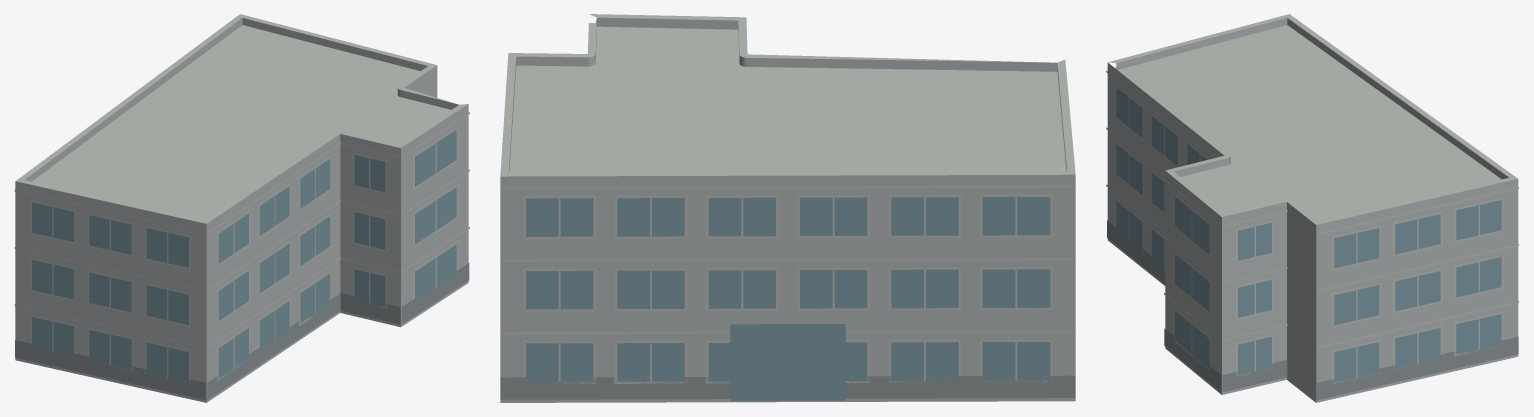
Rendered from public-b727afa5-353d-4661-aec9-f2608c0fcb34.glb.
3 renders of one model, left to right at view 1: azimuth 30°, elevation 25°; view 2: azimuth 150°, elevation 25°; view 3: azimuth 270°, elevation 25°, orthographic. The views are drawn at different scales.
Parts seen in each view (by area): view 1: public-b727afa5-353d-4661-aec9-f2608c0fcb34; view 2: public-b727afa5-353d-4661-aec9-f2608c0fcb34; view 3: public-b727afa5-353d-4661-aec9-f2608c0fcb34.
Part boxes in pixels (x1,y1,x2,y2): public-b727afa5-353d-4661-aec9-f2608c0fcb34: [14, 14, 469, 402]; public-b727afa5-353d-4661-aec9-f2608c0fcb34: [500, 14, 1075, 402]; public-b727afa5-353d-4661-aec9-f2608c0fcb34: [1106, 14, 1518, 402].
Size of the model in its own units: 23.39 by 9.15 by 19.26.
